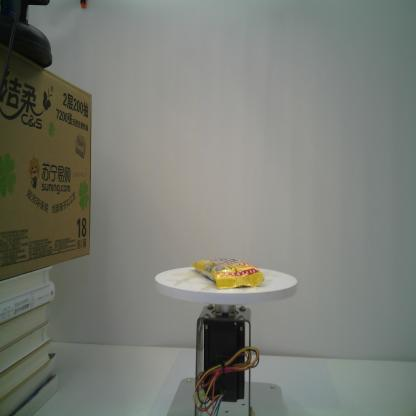Chocolate: (189, 257, 264, 290)
